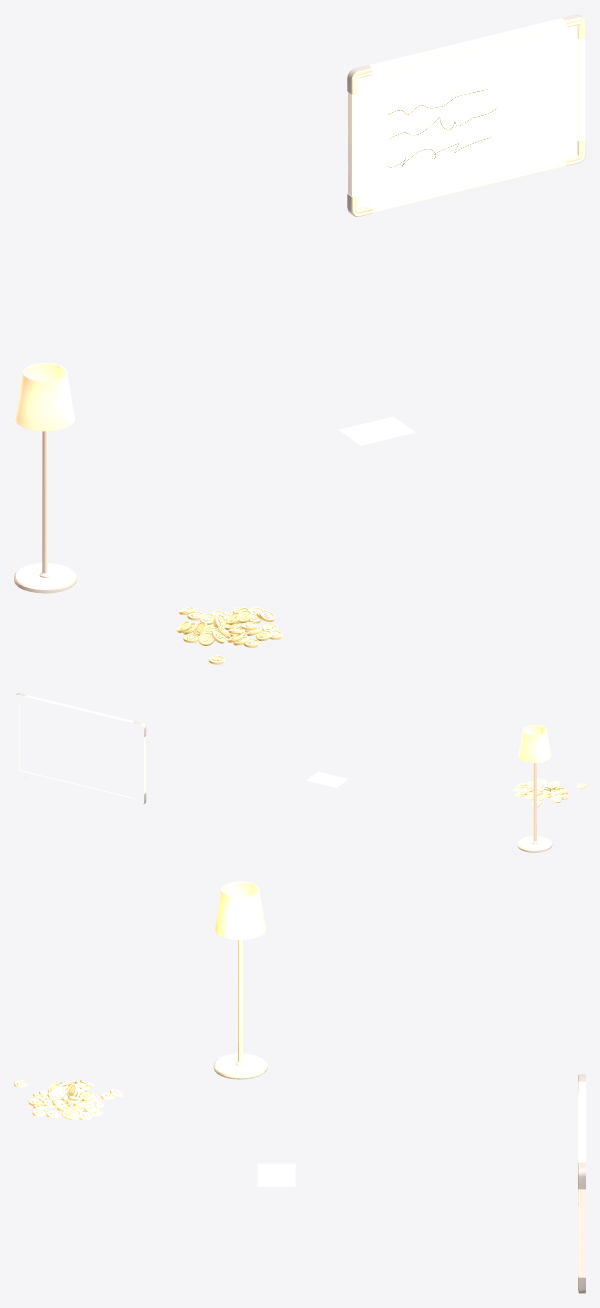
The model's file is parts.glb.
3 views of the same model, one above another, from view 1: azimuth 30°, elevation 25°; view 2: azimuth 150°, elevation 25°; view 3: azimuth 270°, elevation 25° (orthographic). The views are drawn at different scales.
Visible parts, largest first — view 1: parts.1; view 2: parts.1; view 3: parts.1.
Boxes of the visible parts, x1,y1,x2,y2 form: parts.1: [14, 14, 585, 664]; parts.1: [16, 693, 585, 852]; parts.1: [14, 881, 585, 1293].
Bounding box in the file's own units: 16.37 × 4.93 × 12.34.
